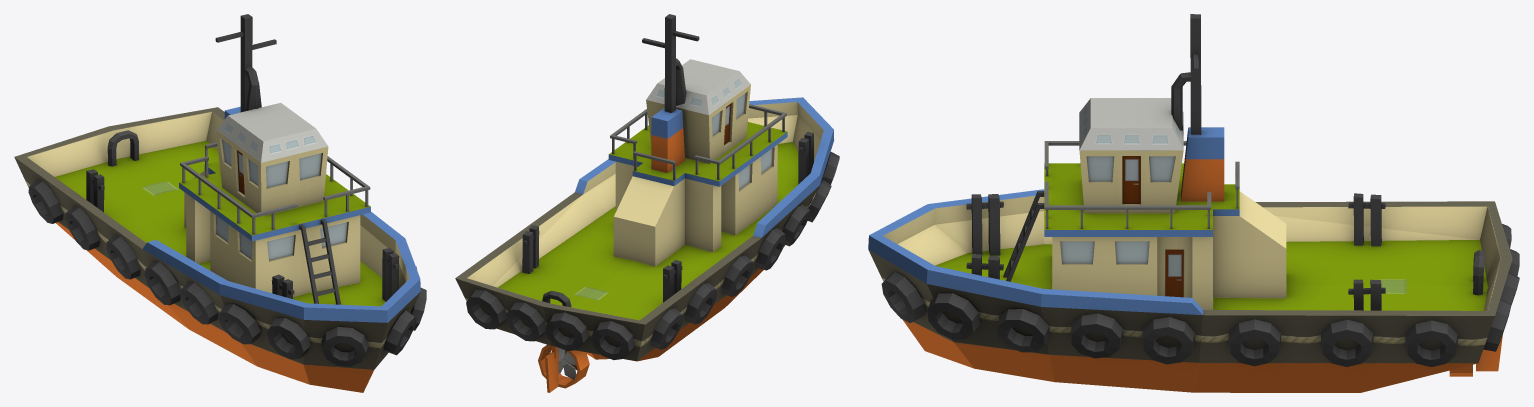
File: Tugboat.gltf
3 renders of one model, left to right at view 1: azimuth 30°, elevation 25°; view 2: azimuth 150°, elevation 25°; view 3: azimuth 270°, elevation 25°, orthographic. The views are drawn at different scales.
Parts seen in each view (by area): view 1: node-0; view 2: node-0; view 3: node-0.
Boxes of the visible parts, x1,y1,x2,y2 form: node-0: [14, 14, 426, 392]; node-0: [455, 14, 839, 392]; node-0: [868, 14, 1519, 392].
Bounding box in the file's own units: 4.73 × 6.4 × 10.59.
Materials: 1 (1 with a texture image).
